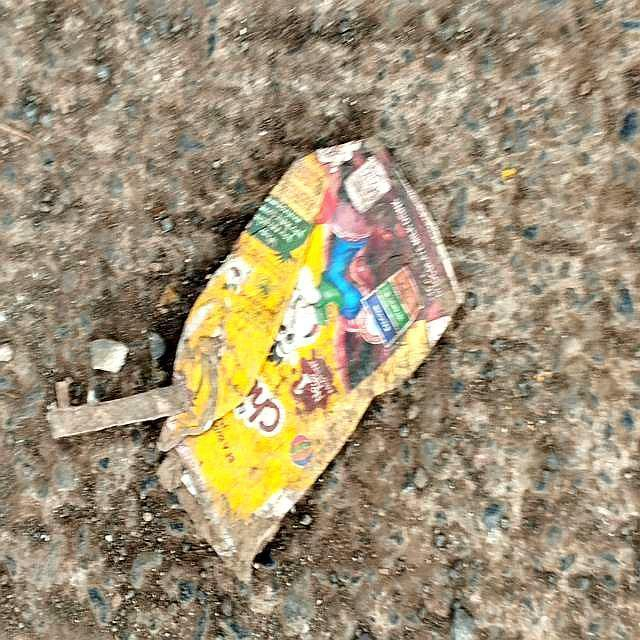Biodegradable: (102, 96, 492, 588)
